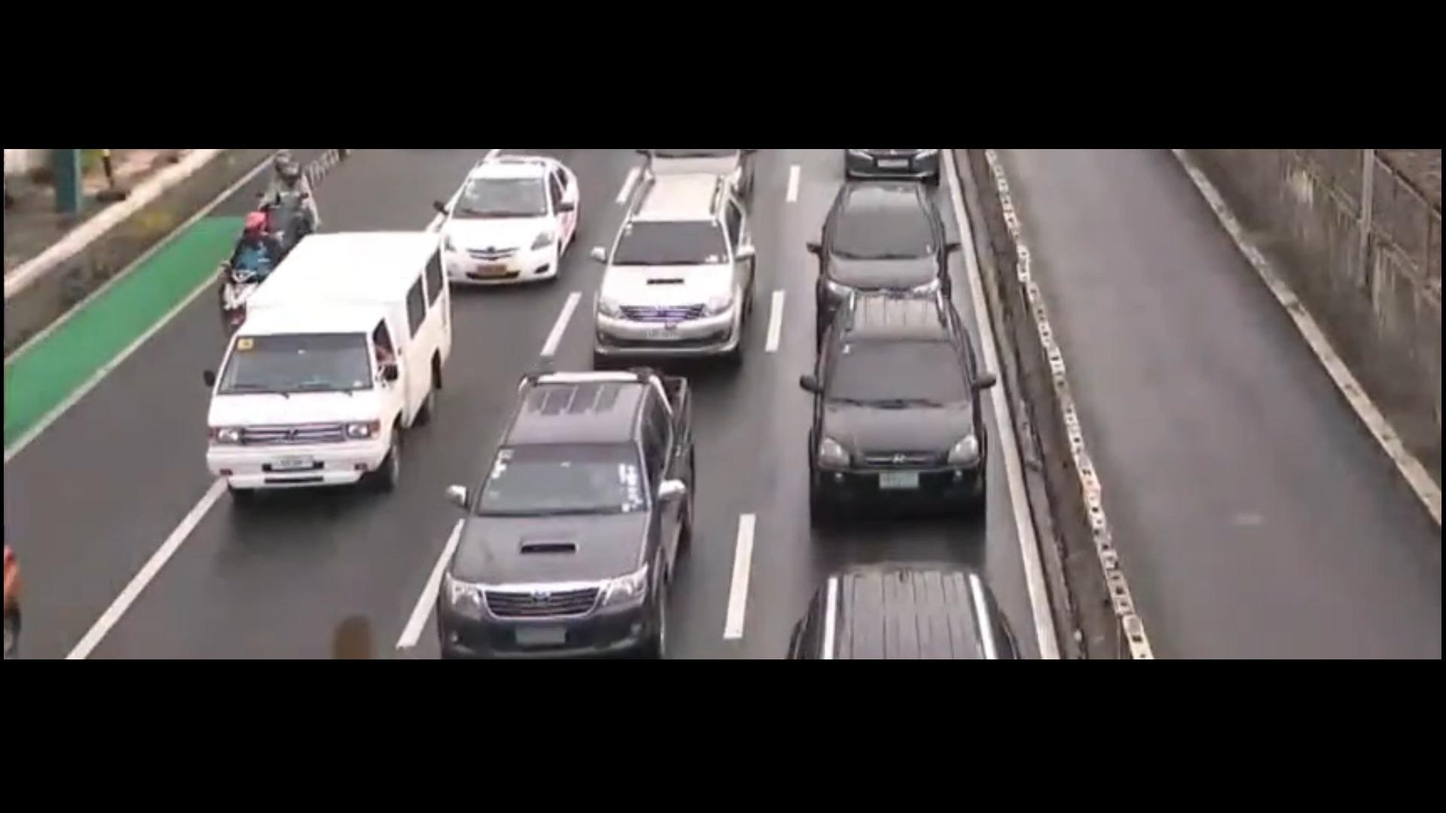Motorcycle: (247, 164, 349, 256), (198, 219, 272, 330)
Multicab: (185, 234, 462, 518)
Pickup: (400, 349, 735, 651)
SUV: (776, 298, 986, 542), (575, 187, 774, 380), (795, 172, 961, 333), (780, 563, 1022, 657)
Sedan: (432, 149, 601, 300)
